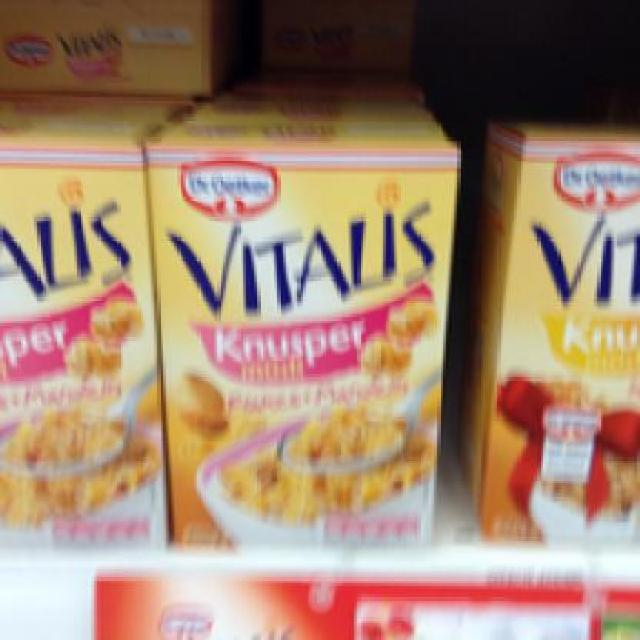Cereal: (142, 123, 455, 546), (462, 117, 638, 537), (0, 107, 166, 544)
